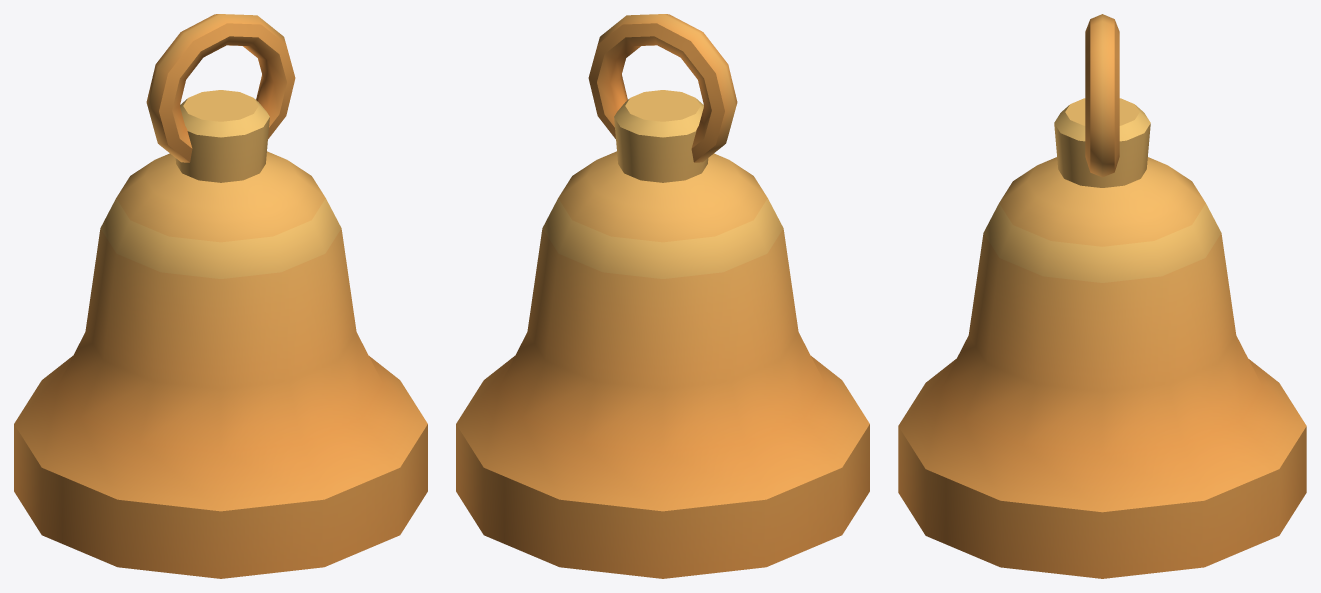
Rendered from bell.glb.
3 renders of one model, left to right at view 1: azimuth 30°, elevation 25°; view 2: azimuth 150°, elevation 25°; view 3: azimuth 270°, elevation 25°, orthographic.
Visible parts, largest first — view 1: bell, bell_ring; view 2: bell, bell_ring; view 3: bell, bell_ring.
Boxes of the visible parts, box(x1,y1,x2,y2) form: bell: box(14, 90, 427, 578); bell_ring: box(146, 14, 295, 162); bell: box(456, 90, 869, 578); bell_ring: box(588, 14, 737, 162); bell: box(898, 98, 1306, 578); bell_ring: box(1085, 14, 1119, 177).
Bounding box in the file's own units: 0.806 × 1.1 × 0.806.
Materials: 1 (1 with a texture image).
